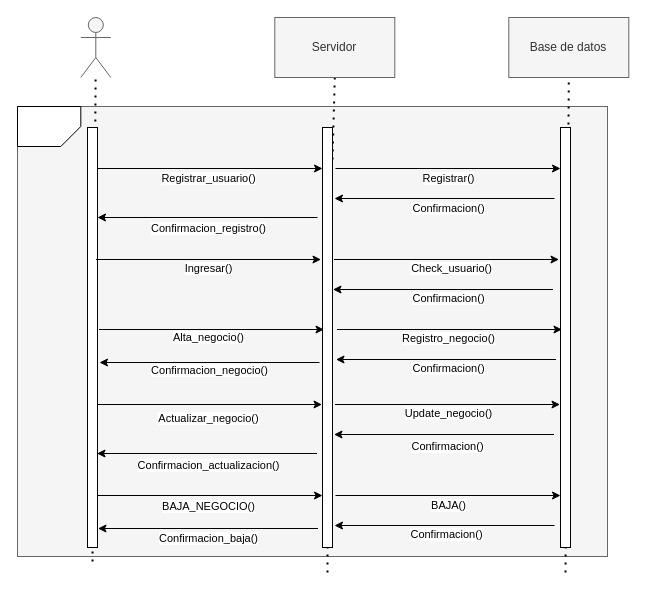
Image size: 647x592. Some labels were removed from this diagram. Here are the shapes that lost their labels. From the top down, the box of each, then its label:
(80, 16, 111, 78): Usuario
(16, 106, 81, 146): Loop
